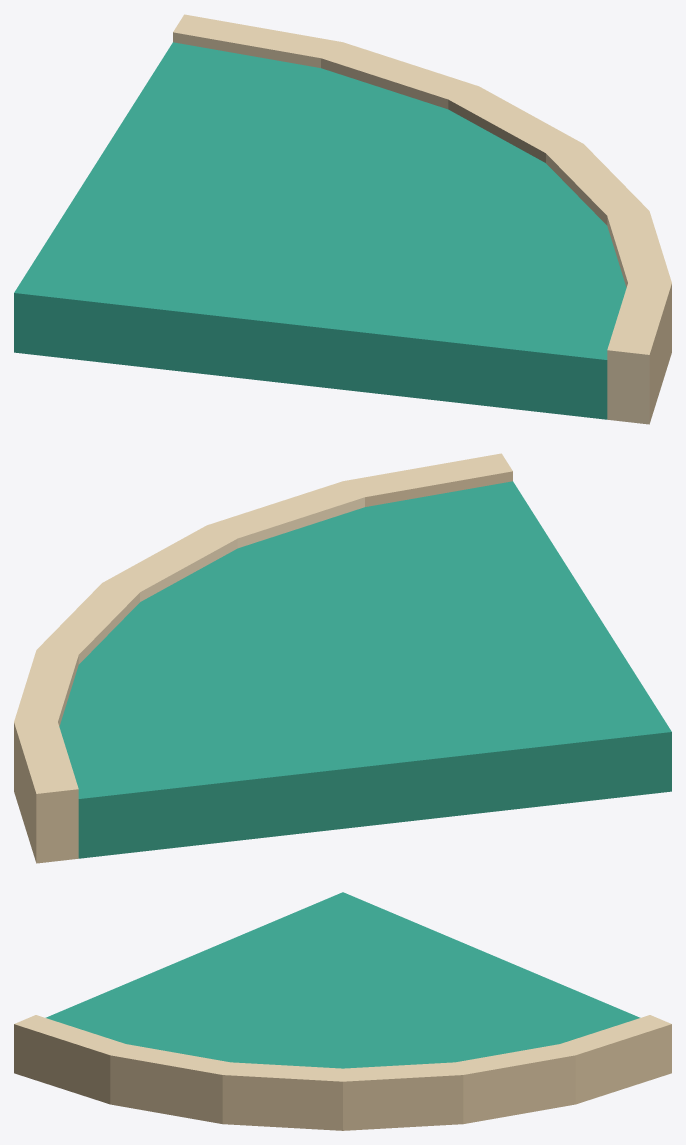
Rendered from pie_slice_4.glb.
3 renders of one model, top to bottom at view 1: azimuth 30°, elevation 25°; view 2: azimuth 150°, elevation 25°; view 3: azimuth 270°, elevation 25°, orthographic. The views are drawn at different scales.
Parts seen in each view (by area): view 1: slice; view 2: slice; view 3: slice.
Boxes of the visible parts, bbox=[...] form: slice: bbox=[14, 14, 671, 424]; slice: bbox=[14, 453, 671, 863]; slice: bbox=[14, 892, 671, 1130].
Size of the model in its own units: 0.06 by 0.007 by 0.0849.
